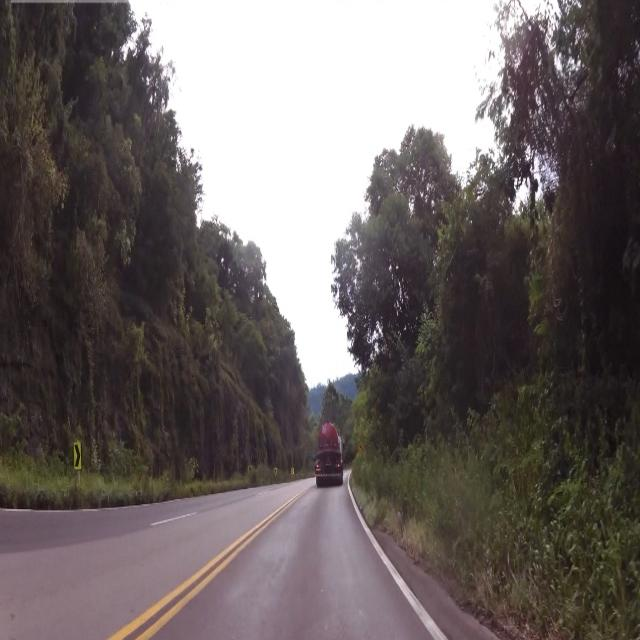Del: (72, 441, 86, 474)
